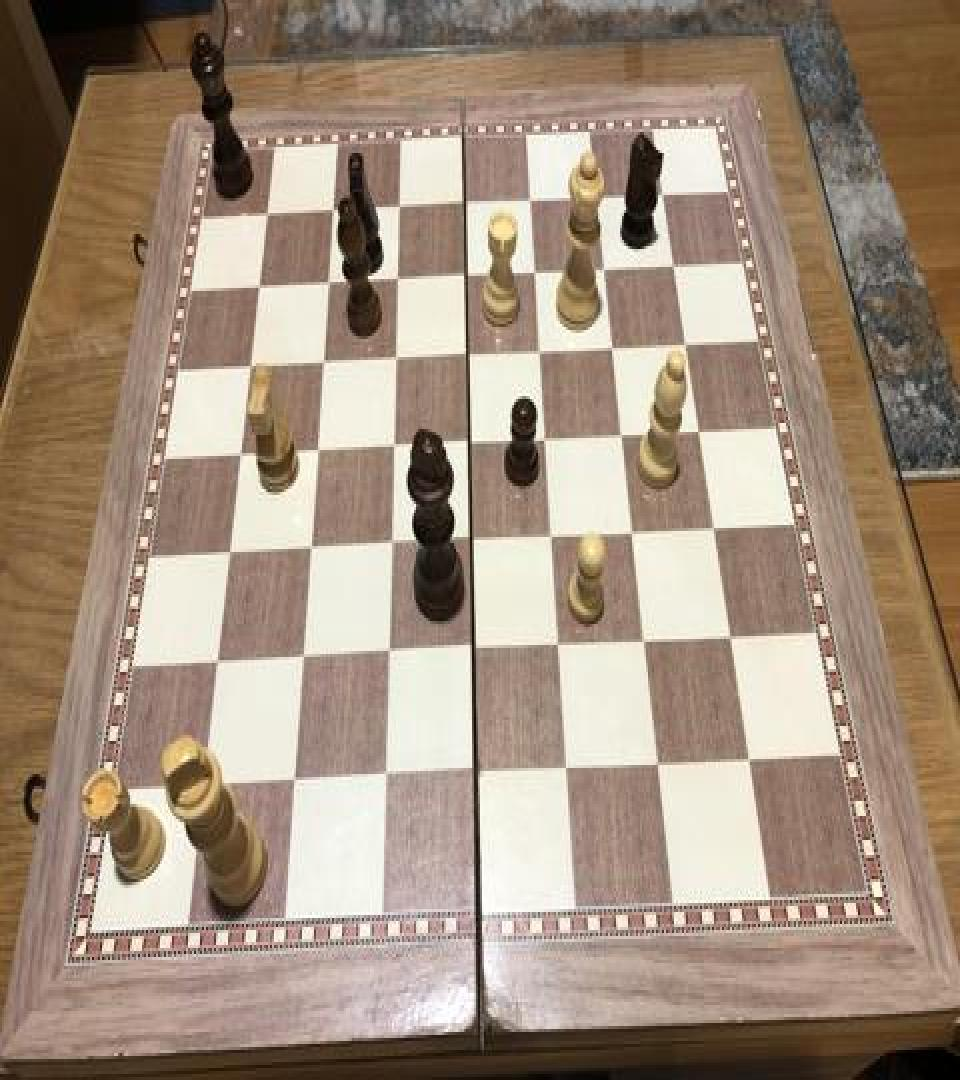xcorner: (540, 520, 564, 557), (633, 625, 657, 662), (376, 637, 400, 674), (205, 646, 229, 683), (646, 748, 670, 785), (652, 176, 676, 212), (585, 180, 609, 216), (519, 183, 543, 219), (387, 190, 411, 226), (322, 194, 346, 230), (256, 198, 280, 234), (662, 248, 686, 284), (593, 252, 617, 288), (524, 255, 548, 291), (386, 262, 410, 298), (317, 267, 341, 303), (248, 270, 272, 306), (674, 327, 698, 363), (601, 332, 625, 368), (529, 334, 553, 370), (456, 339, 480, 375), (383, 342, 407, 378), (311, 346, 335, 382), (239, 350, 263, 386), (688, 414, 712, 450), (611, 418, 635, 454), (534, 423, 558, 459), (458, 426, 482, 462), (305, 435, 329, 471), (229, 438, 253, 474), (702, 512, 726, 548), (621, 516, 645, 552), (459, 525, 483, 561), (378, 528, 402, 564), (298, 532, 322, 568), (217, 537, 241, 573), (719, 621, 743, 657), (547, 630, 571, 666), (461, 634, 485, 670), (290, 642, 314, 678), (737, 744, 761, 780), (554, 753, 578, 789), (463, 758, 487, 794), (372, 762, 396, 798), (282, 766, 306, 802), (191, 771, 215, 807), (453, 188, 477, 223), (455, 260, 479, 295), (381, 431, 405, 466)
